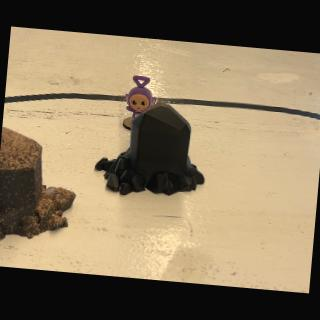teletubby: (125, 75, 156, 118)
